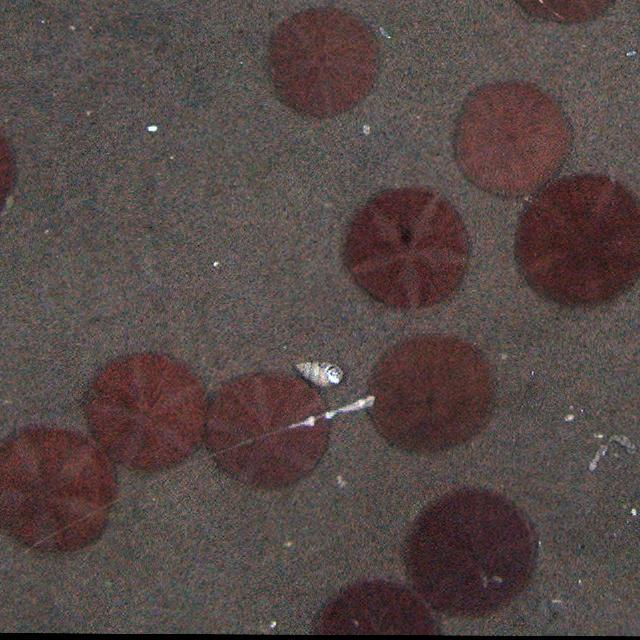whelk: (297, 358, 349, 390)
